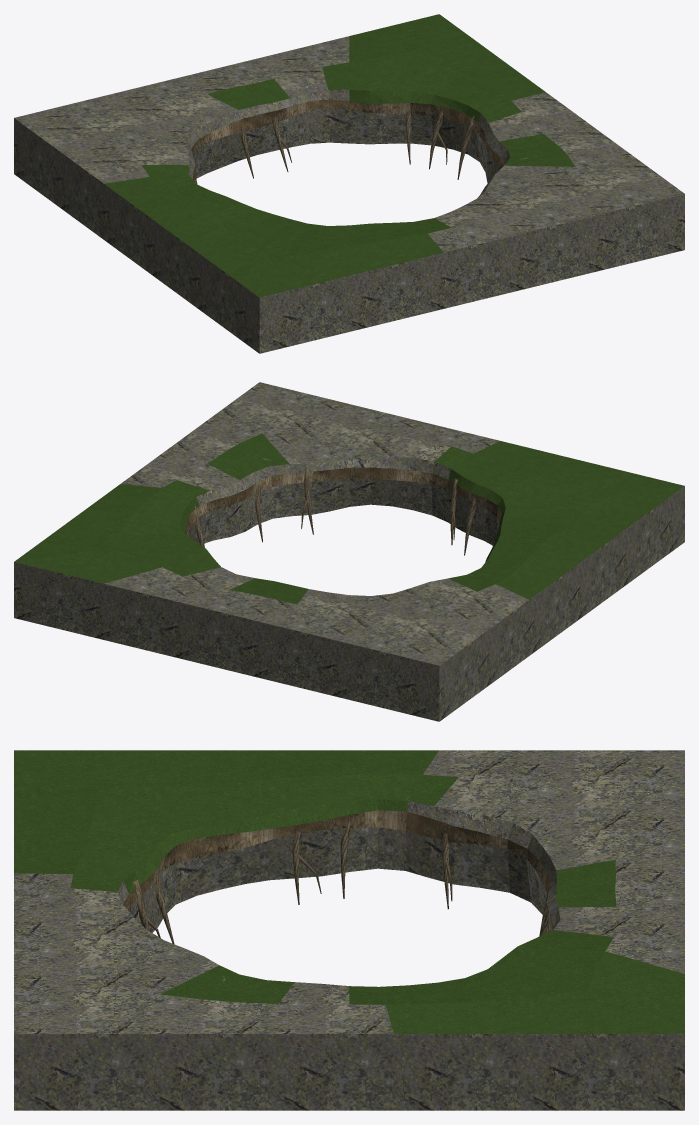
The model's file is v3_collapse_oculus.glb.
3 renders of one model, top to bottom at view 1: azimuth 30°, elevation 25°; view 2: azimuth 150°, elevation 25°; view 3: azimuth 270°, elevation 25°, orthographic. The views are drawn at different scales.
Parts seen in each view (by area): view 1: v3_wet_stone_surface, v3_deep_moss_surface, v3_wet_root_surface; view 2: v3_wet_stone_surface, v3_deep_moss_surface, v3_wet_root_surface; view 3: v3_wet_stone_surface, v3_deep_moss_surface, v3_wet_root_surface.
Boxes of the visible parts, x1,y1,x2,y2 form: v3_wet_stone_surface: [14, 36, 684, 353]; v3_deep_moss_surface: [104, 14, 575, 297]; v3_wet_root_surface: [191, 99, 528, 184]; v3_wet_stone_surface: [14, 382, 684, 721]; v3_deep_moss_surface: [14, 433, 684, 604]; v3_wet_root_surface: [186, 457, 501, 555]; v3_wet_stone_surface: [14, 750, 684, 1110]; v3_deep_moss_surface: [14, 750, 684, 1033]; v3_wet_root_surface: [123, 810, 554, 981].
Size of the model in its own units: 4.04 by 0.6301 by 4.04.
Materials: 3 (3 with a texture image).
